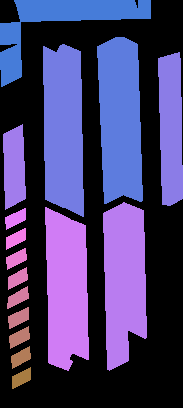parkingspot: (56, 44, 83, 216), (45, 207, 72, 370), (97, 37, 123, 203), (116, 37, 142, 201), (103, 202, 128, 370), (43, 46, 68, 207), (158, 52, 182, 205), (62, 218, 88, 359), (123, 202, 146, 338), (14, 0, 140, 21), (3, 124, 25, 209), (0, 43, 21, 86), (7, 286, 28, 308), (0, 22, 20, 44), (9, 326, 29, 348), (5, 208, 25, 229), (6, 248, 26, 269), (8, 307, 28, 328), (8, 267, 27, 289), (11, 346, 30, 368), (6, 228, 25, 249), (12, 367, 30, 388), (138, 0, 150, 18)
